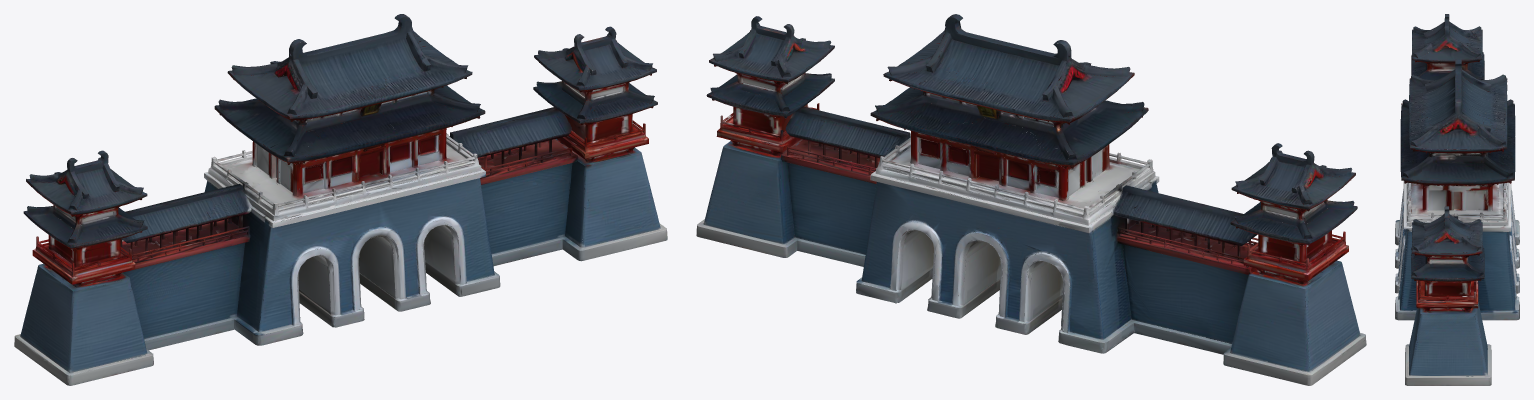
Rendered from yingtianmen_t2m.glb.
The picture shows the model from 3 angles, left to right: view 1: azimuth 30°, elevation 25°; view 2: azimuth 150°, elevation 25°; view 3: azimuth 270°, elevation 25°; orthographic projection. The views are drawn at different scales.
Visible parts, largest first — view 1: node_0; view 2: node_0; view 3: node_0.
Boxes of the visible parts, x1,y1,x2,y2 form: node_0: [14, 14, 667, 385]; node_0: [696, 14, 1366, 385]; node_0: [1395, 14, 1519, 385].
Bounding box in the file's own units: 174 × 70.98 × 40.35.
1 material, 1 textured.
